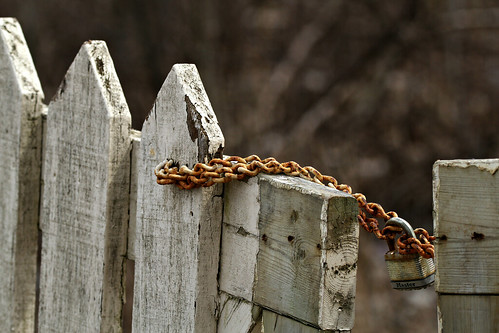gate: (9, 43, 499, 333)
lock: (358, 205, 441, 294)
